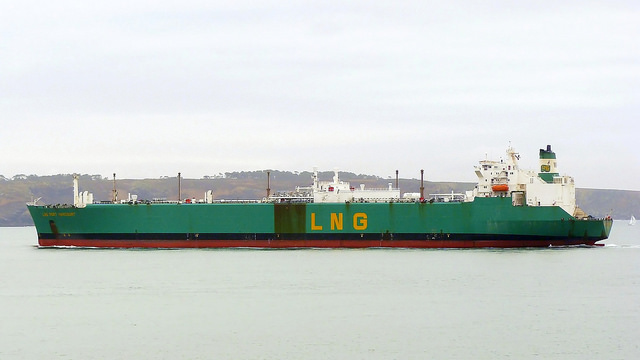LNG_ship: (24, 142, 610, 254)
